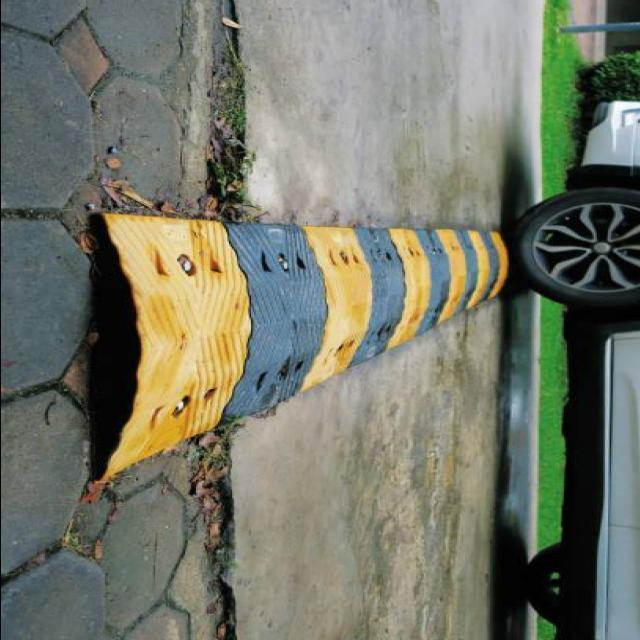speedbreaker: (64, 191, 514, 459)
